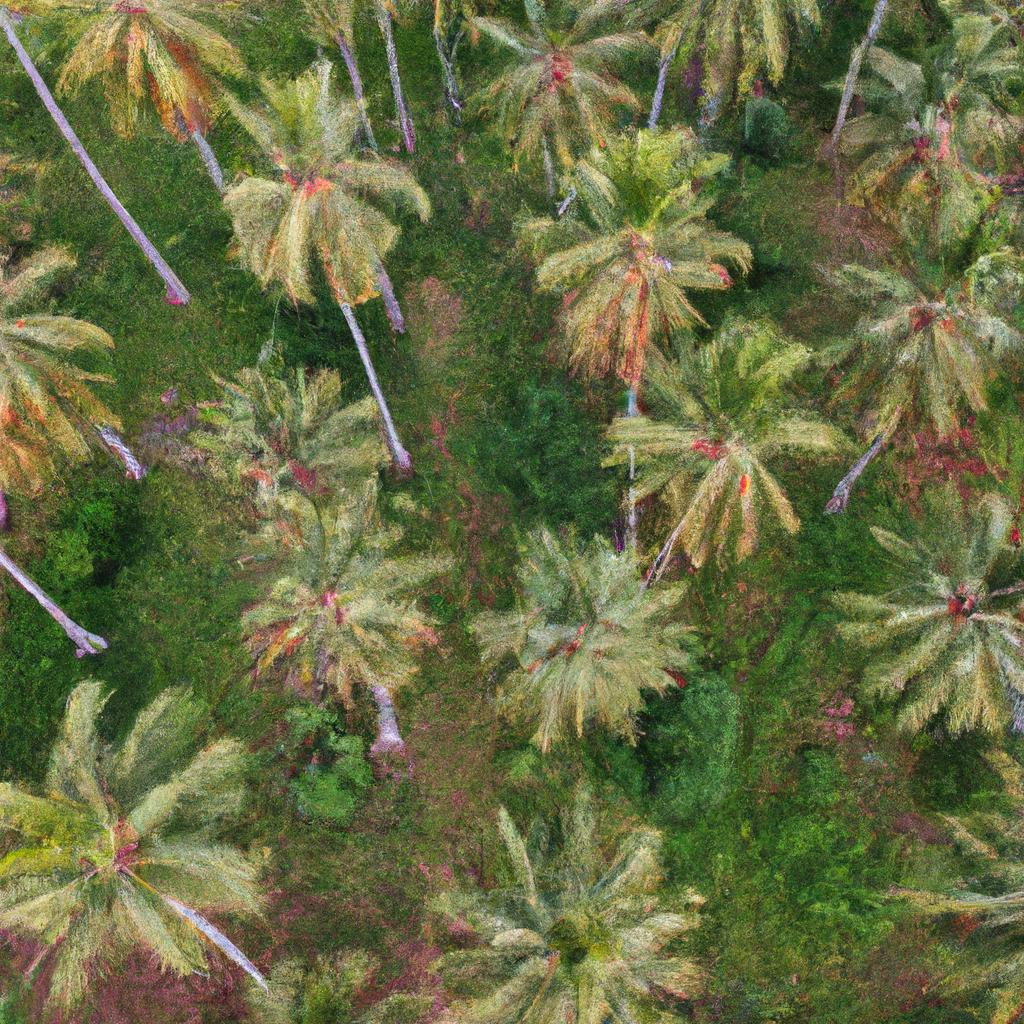coconut_tree: (0, 643, 320, 1023), (409, 786, 728, 1023), (600, 297, 838, 574), (463, 508, 719, 759), (194, 55, 439, 296), (228, 493, 454, 753), (527, 115, 739, 353), (178, 361, 428, 545)
